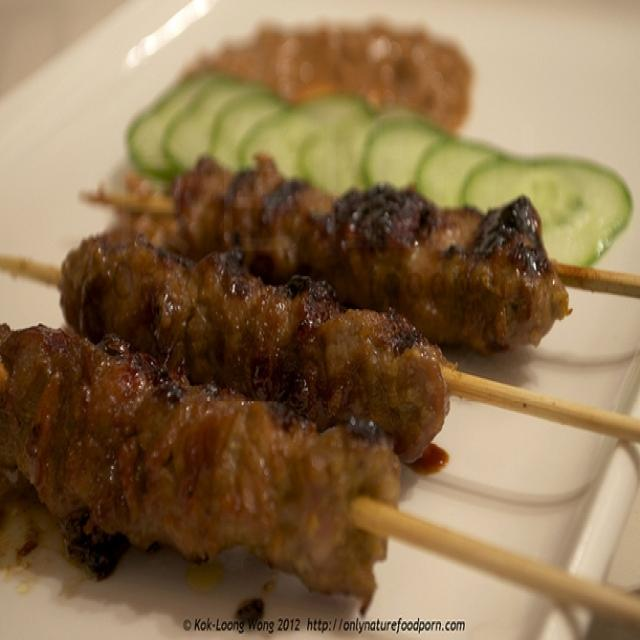牛肉菜式: (10, 116, 599, 623)
